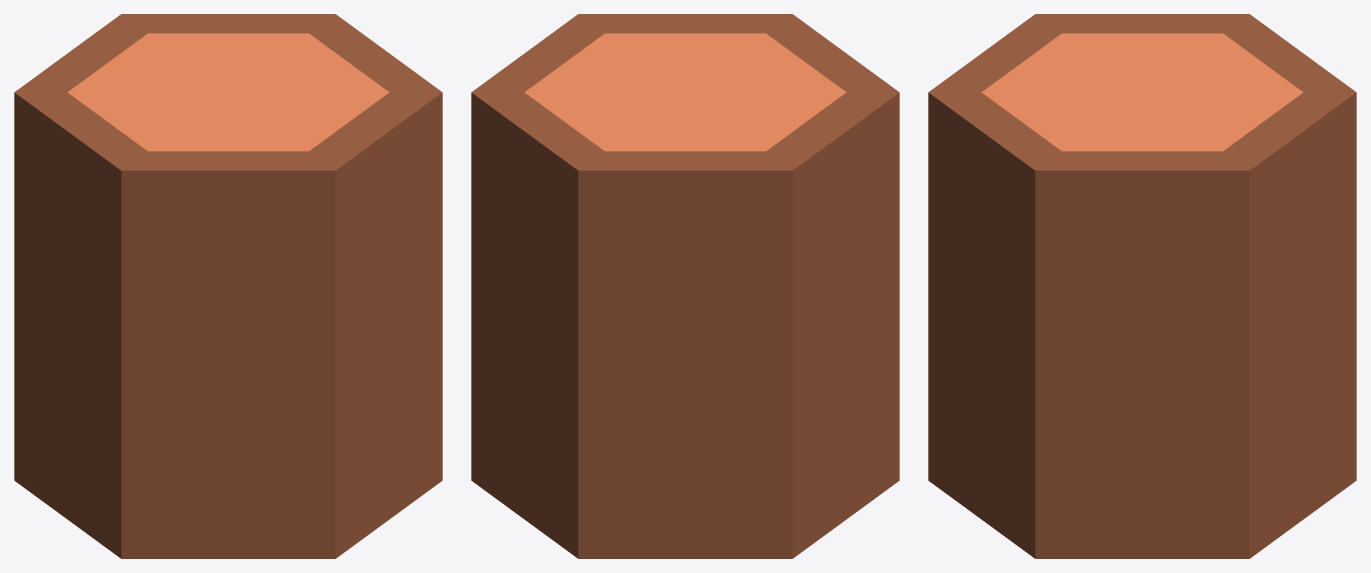
File: trunk_chopped.fbx
3 views of the same model, side by side, from view 1: azimuth 30°, elevation 25°; view 2: azimuth 150°, elevation 25°; view 3: azimuth 270°, elevation 25° (orthographic).
Parts seen in each view (by area): view 1: trunk_chopped; view 2: trunk_chopped; view 3: trunk_chopped.
Boxes of the visible parts, <box> form: trunk_chopped: <box>14,14,442,558</box>; trunk_chopped: <box>471,14,899,558</box>; trunk_chopped: <box>928,14,1356,558</box>.
Bounding box in the file's own units: 173 × 200 × 200.
